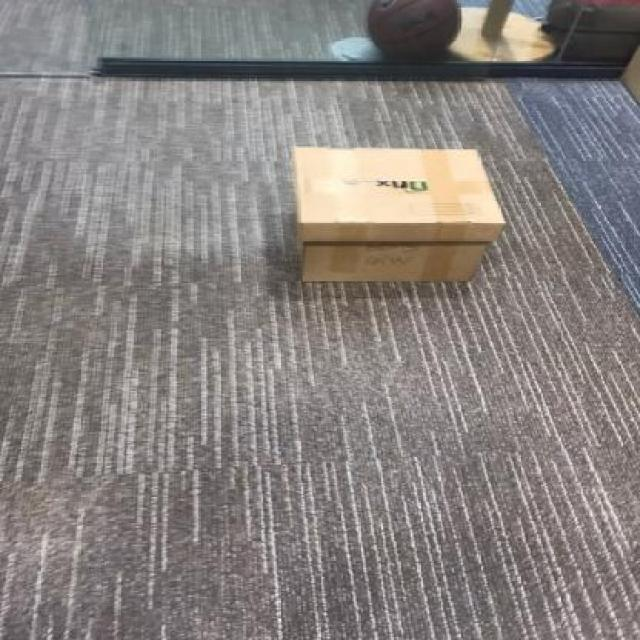box: (284, 140, 507, 284)
